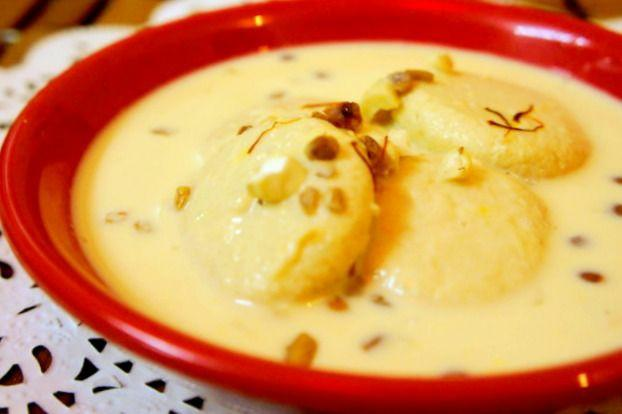RasMalai: (65, 39, 622, 370)
